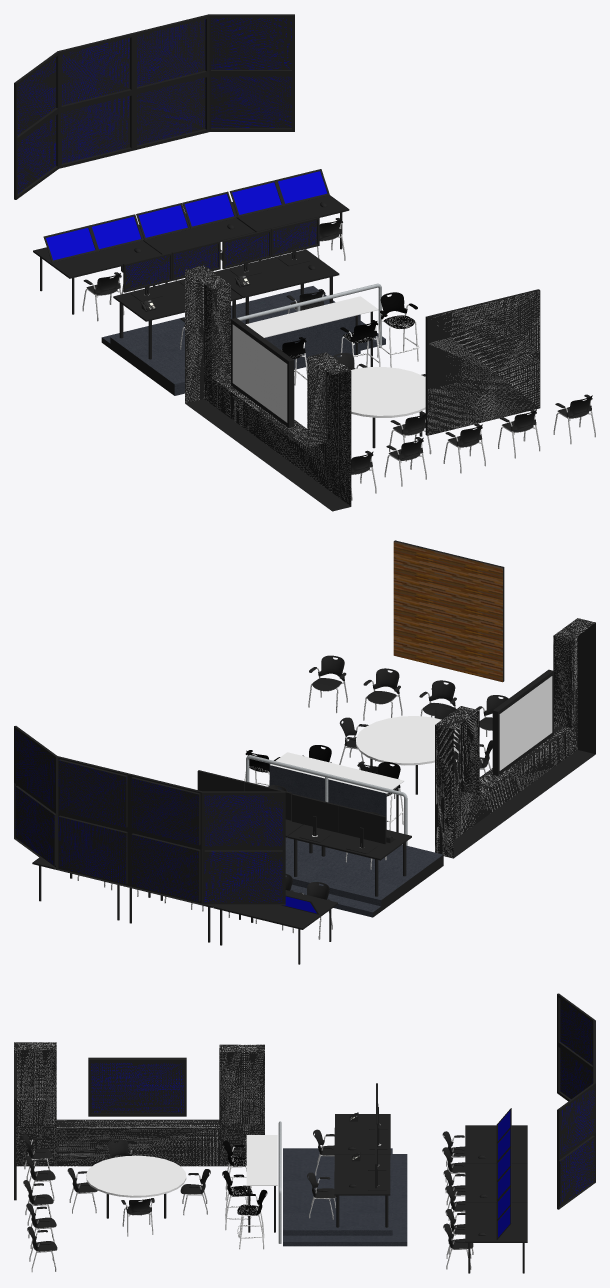
Rendered from HBXLiveControlRoom4.dae.
3 views of the same model, one above another, from view 1: azimuth 30°, elevation 25°; view 2: azimuth 150°, elevation 25°; view 3: azimuth 270°, elevation 25° (orthographic). The views are drawn at different scales.
Visible parts, largest first — view 1: SketchUp (×34), Monitor (×4); view 2: SketchUp (×24), Monitor (×3); view 3: SketchUp (×18).
Part boxes in pixels (x1,y1,x2,y2): SketchUp (×34): [14, 14, 540, 507]; Monitor (×4): [126, 220, 317, 289]; SketchUp (×24): [14, 541, 595, 929]; Monitor (×3): [197, 770, 386, 847]; SketchUp (×18): [14, 993, 595, 1246].
Size of the model in its own units: 218 by 458 by 144.
Materials: 17 (4 with a texture image).
